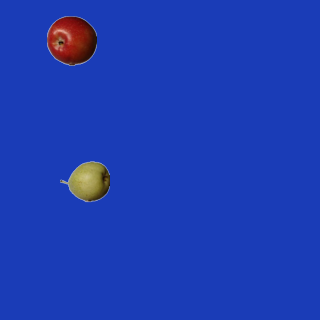Apple Braeburn: (46, 15, 96, 65)
Pear: (59, 156, 109, 206)
